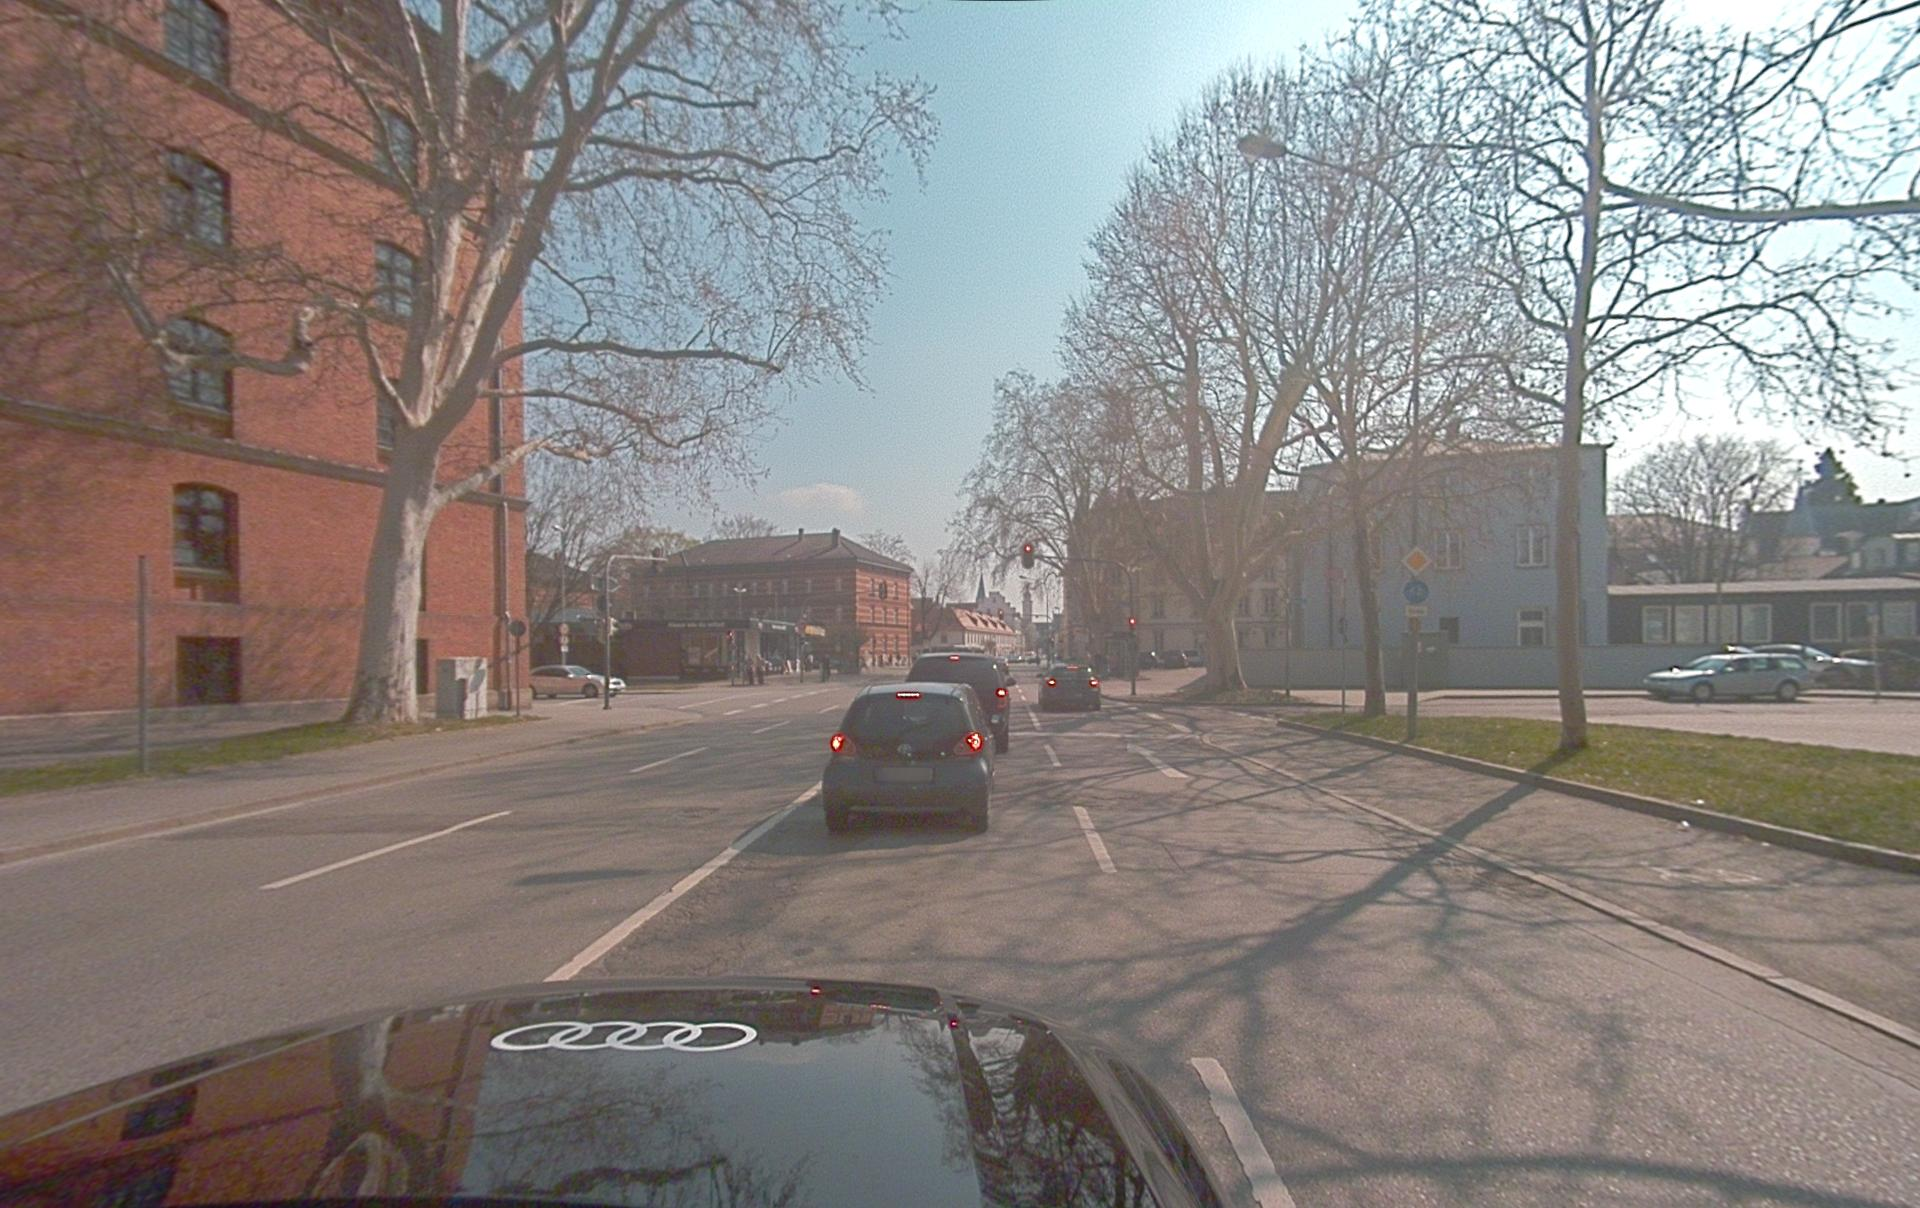car: (1, 976, 1233, 1207), (823, 682, 995, 833), (907, 651, 1015, 753), (1643, 652, 1817, 703), (529, 664, 626, 699), (1039, 663, 1102, 711)
